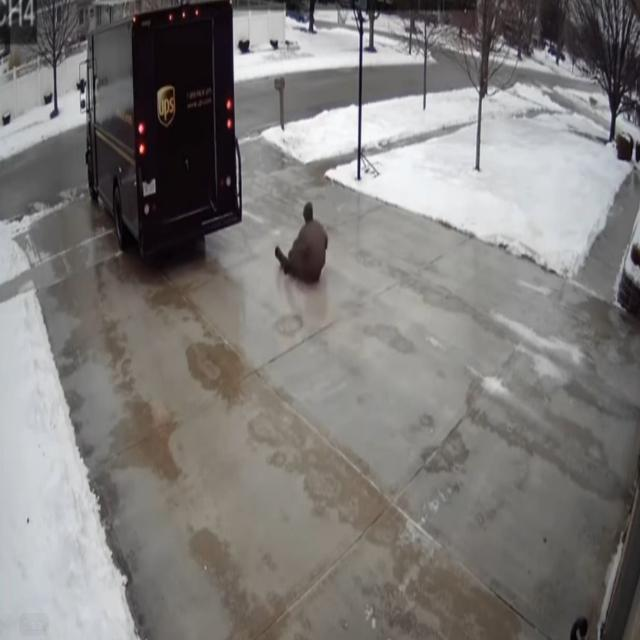fallen: (274, 201, 328, 284)
